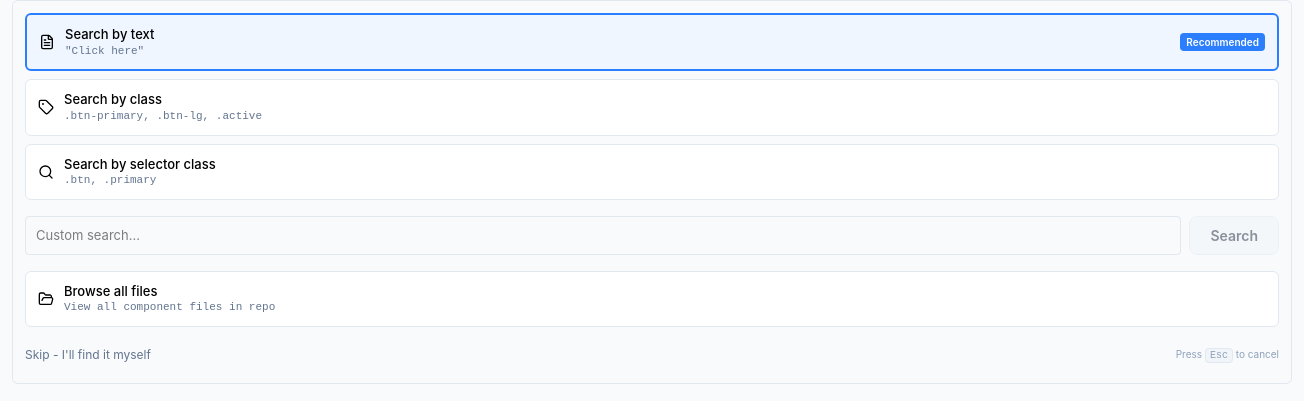
Test: findings/apply-fix/FileFinder › browses files when clicking Browse all files
This screenshot has width=1304, height=401.
Click the text "Browse all files" at (111,291), box [64,283,157,299]
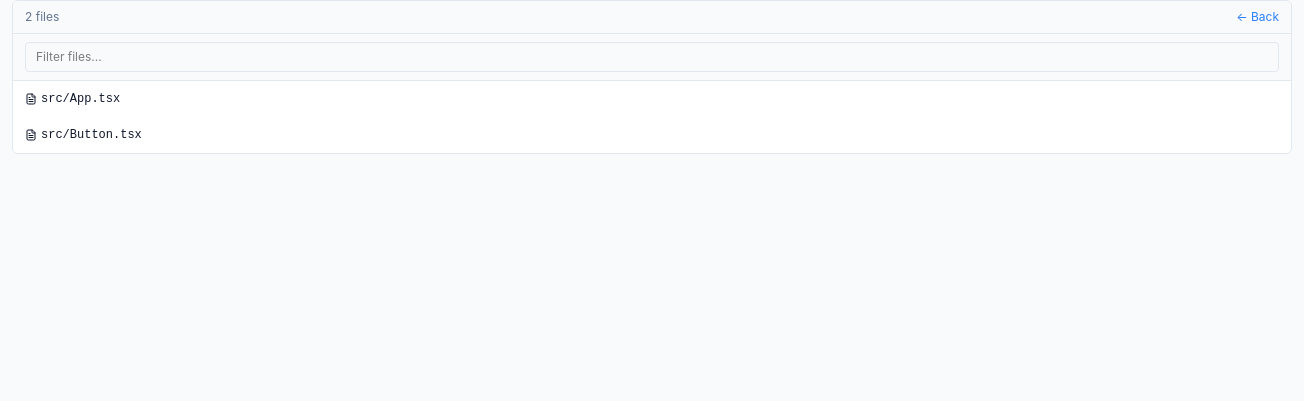
Expected: the text "src/App.tsx" is shown, [25,91,120,107]
Expected: the text "src/Button.tsx" is shown, [25,127,142,143]
